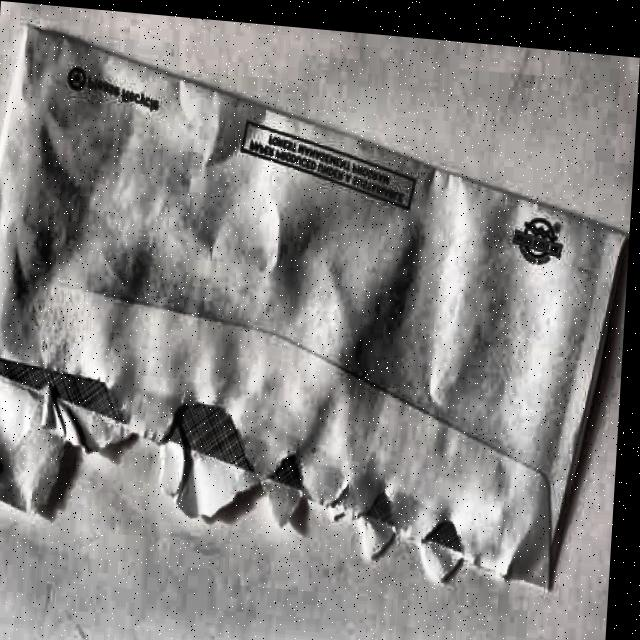paper: (0, 21, 639, 597)
